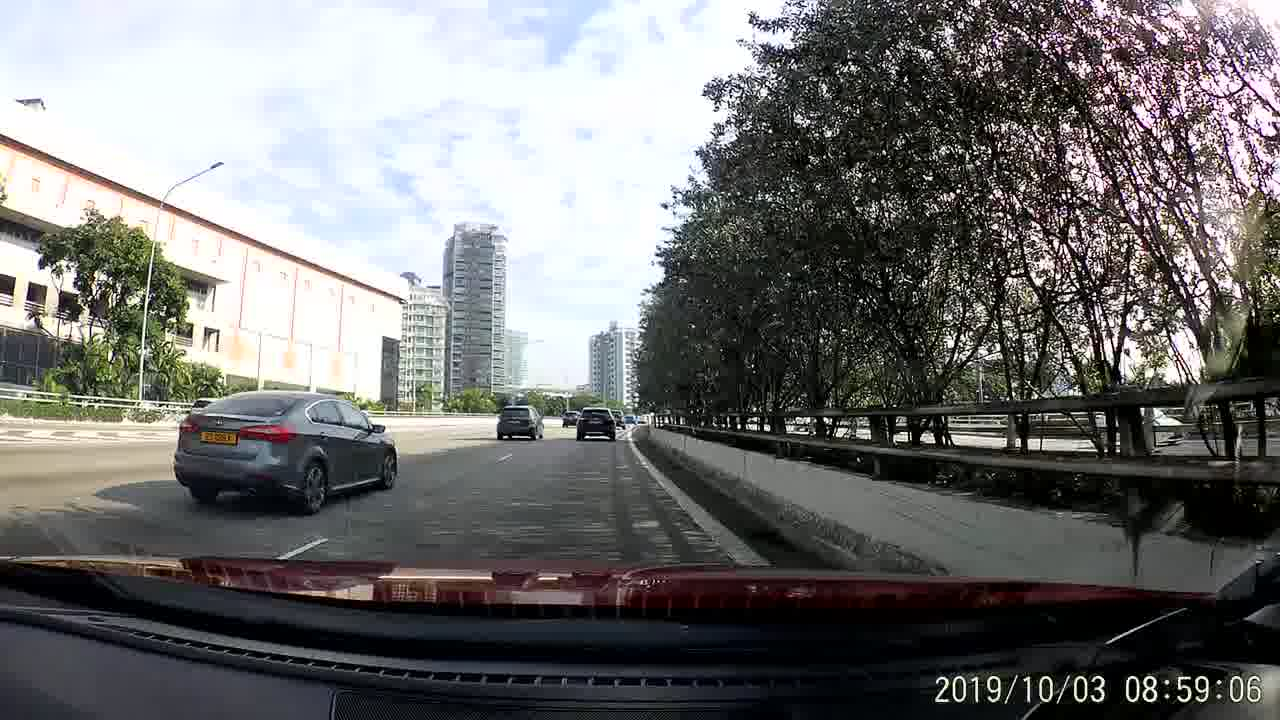car: (172, 392, 398, 516), (494, 401, 545, 442), (575, 402, 617, 440), (561, 408, 583, 428)
